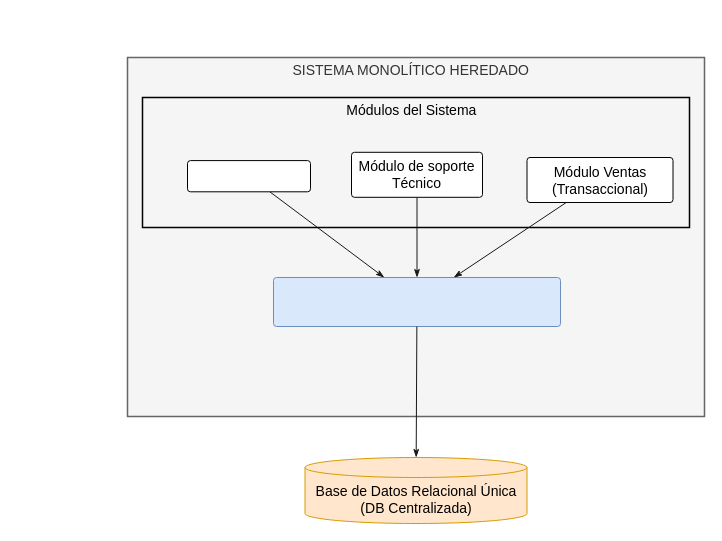
The diagram is 722 pixels wide and 541 high, and some of its shapes have lost their labels. The centre of each missing label's shape, as x and y in pixels:
Lógica de Negocio y Acceso a Datos Compartido: the point at 416,301
Módulo RRHH: the point at 248,176
